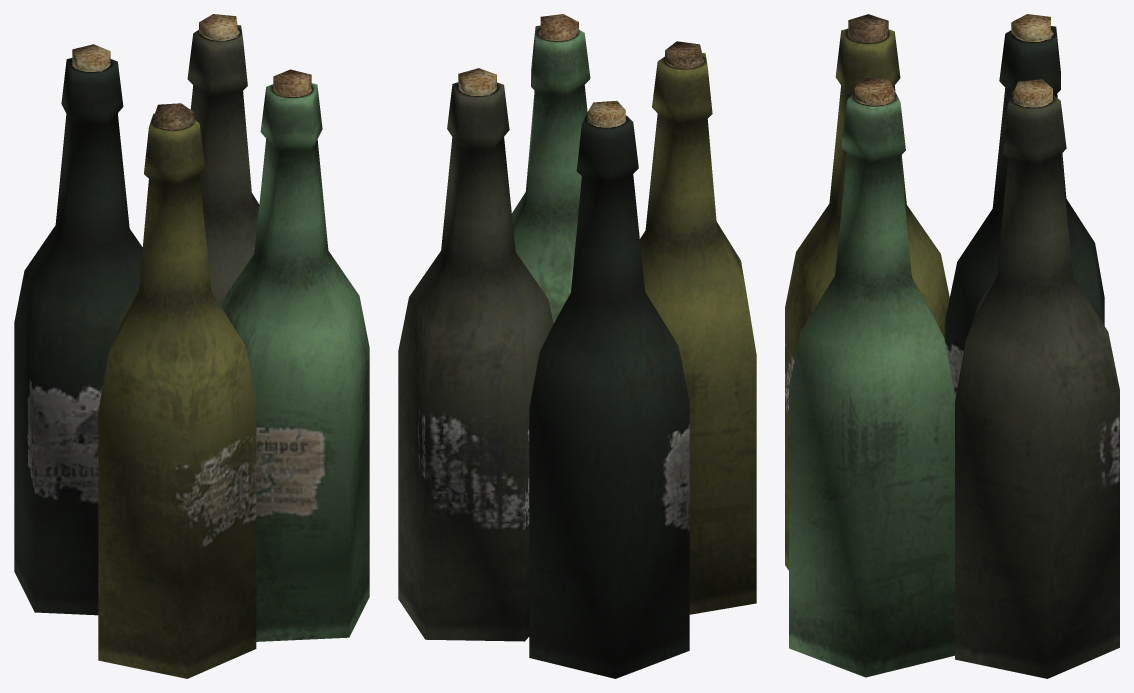
Rendered from wine_stack.dae.
The picture shows the model from 3 angles, left to right: view 1: azimuth 30°, elevation 25°; view 2: azimuth 150°, elevation 25°; view 3: azimuth 270°, elevation 25°; orthographic projection. The views are drawn at different scales.
Parts seen in each view (by area): view 1: wine_stack; view 2: wine_stack; view 3: wine_stack.
Boxes of the visible parts, x1,y1,x2,y2 form: wine_stack: (14,14,369,678); wine_stack: (398,14,756,678); wine_stack: (785,14,1119,678).
Bounding box in the file's own units: 0.1884 × 0.3527 × 0.1929.
